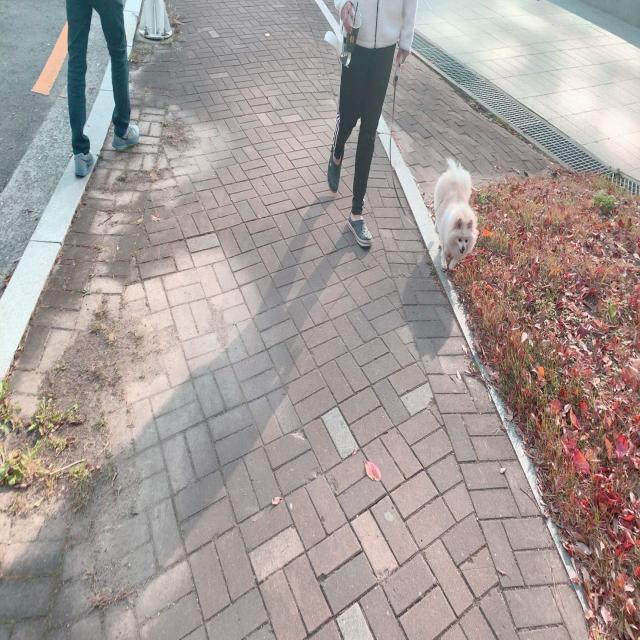Leashed_Dog: (372, 14, 478, 272)
